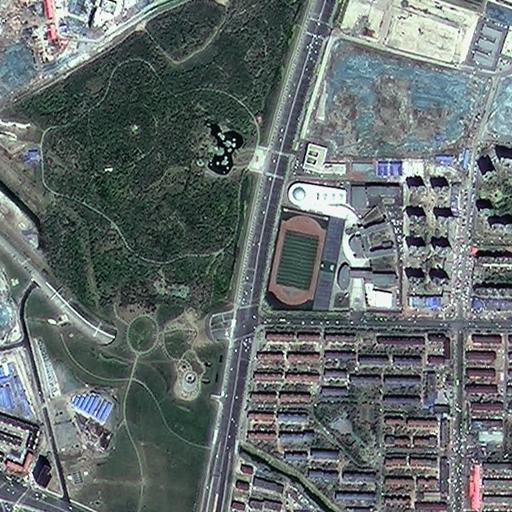school: (259, 180, 406, 321)
